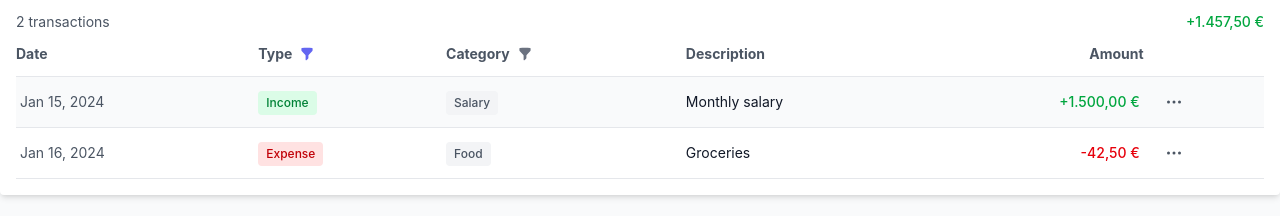
Test case: TransactionTable › category filter › shows expense categories when selectedTypeFilter is Expense
This screenshot has width=1280, height=216.
Click the button without text next to "Category".
click(525, 54)  # box [516,45,534,63]
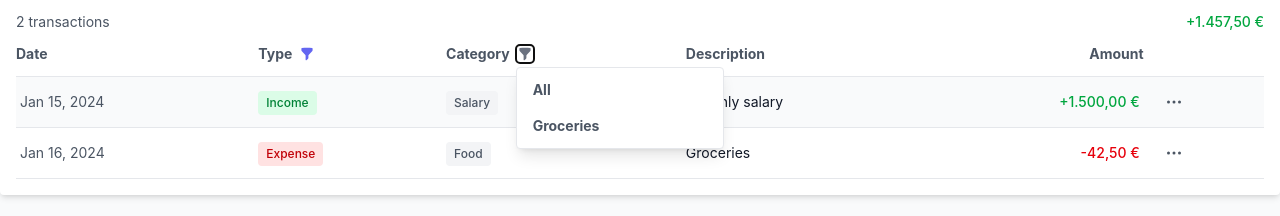
Check: the button "Groceries" is shown, box [517,108,723,144]
